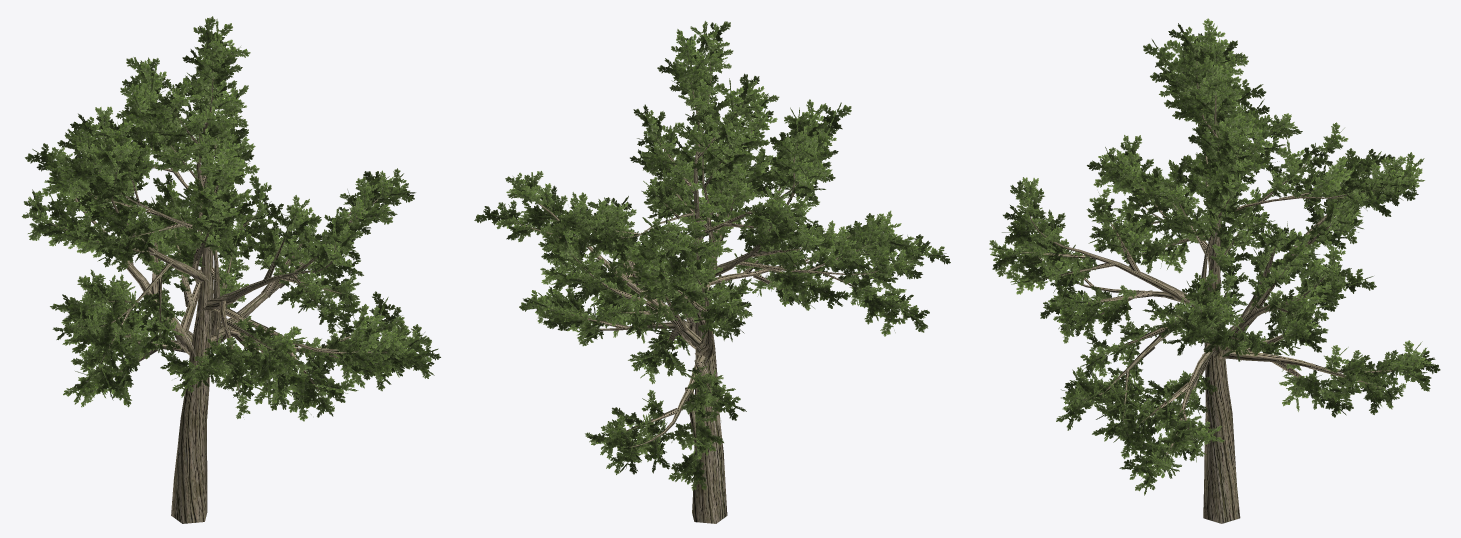
The model's file is tree-eztree-oak.glb.
The picture shows the model from 3 angles, left to right: view 1: azimuth 30°, elevation 25°; view 2: azimuth 150°, elevation 25°; view 3: azimuth 270°, elevation 25°; orthographic projection. The views are drawn at different scales.
Parts seen in each view (by area): view 1: leaves, branches; view 2: leaves, branches; view 3: leaves, branches.
Boxes of the visible parts, left/top/right/bottom form: leaves: left=22, top=16, right=440, bottom=421; branches: left=49, top=62, right=386, bottom=523; leaves: left=474, top=21, right=950, bottom=490; branches: left=516, top=62, right=912, bottom=523; leaves: left=989, top=18, right=1440, bottom=495; branches: left=1021, top=54, right=1395, bottom=523.
Size of the model in its own units: 24.26 by 28 by 23.26.
Materials: 2 (2 with a texture image).
